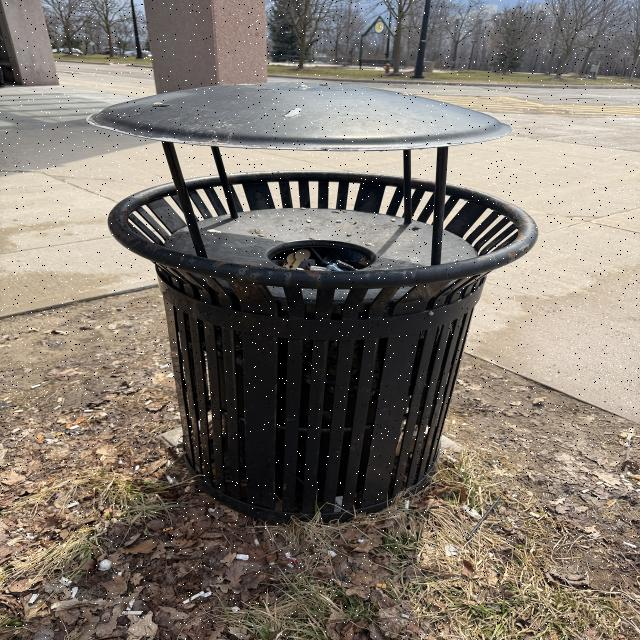Dustbin: (89, 82, 541, 520)
